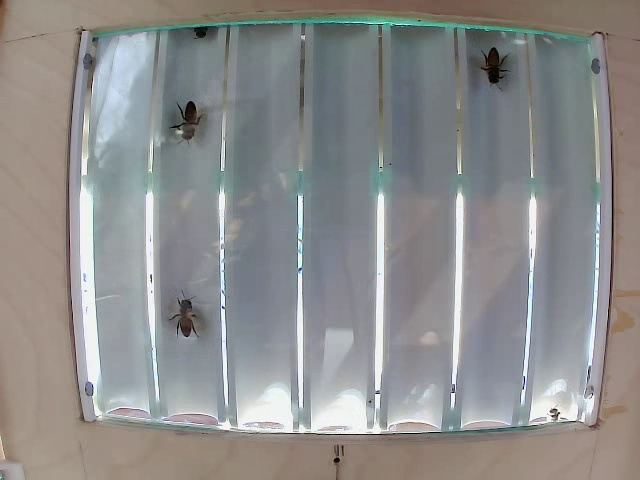bee: (169, 97, 224, 149), (161, 304, 217, 345), (477, 39, 512, 81)
